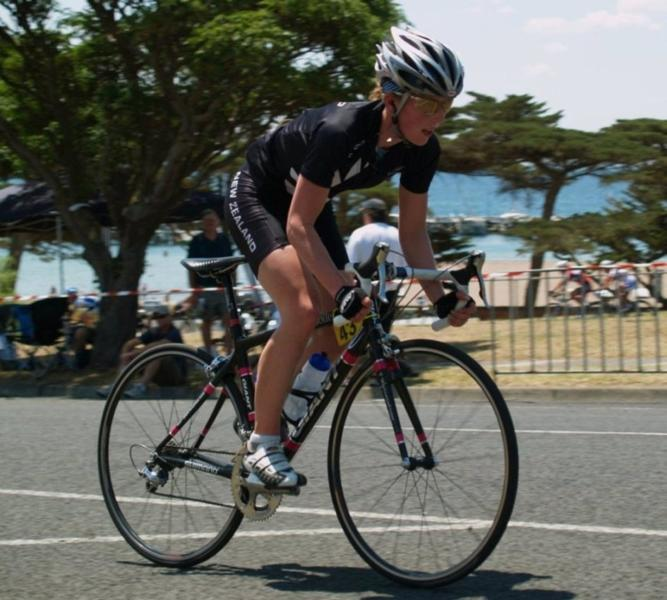person: (227, 26, 486, 487)
